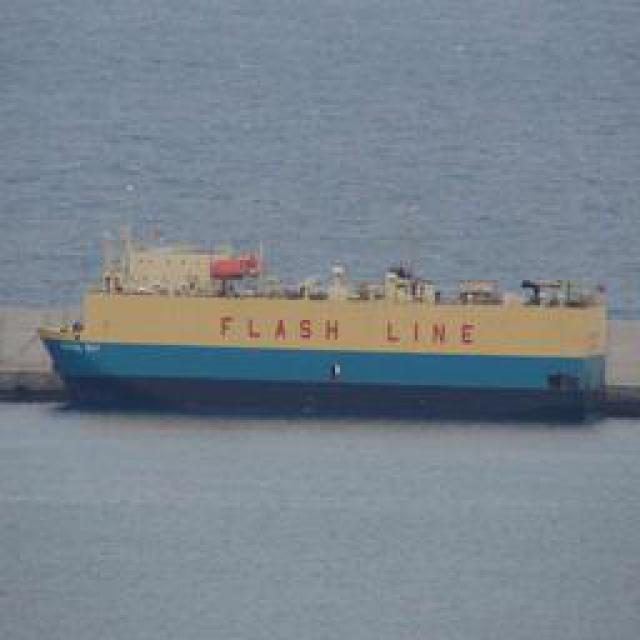Ship: (30, 249, 620, 414)
